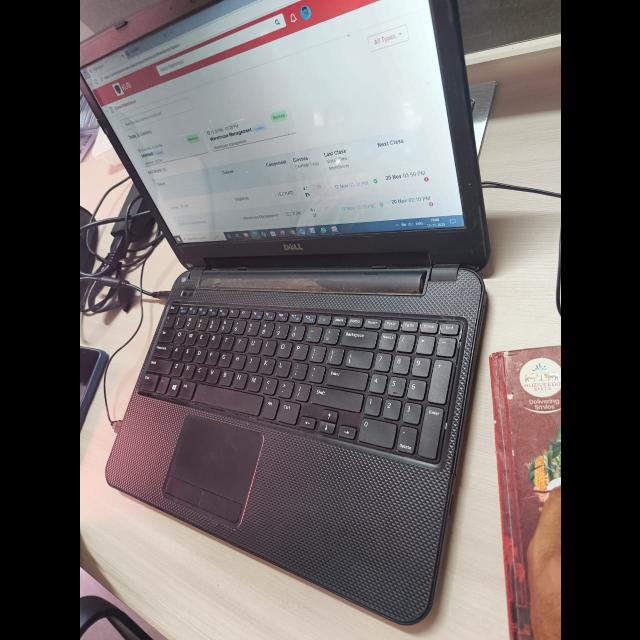laptop: (94, 1, 498, 631)
